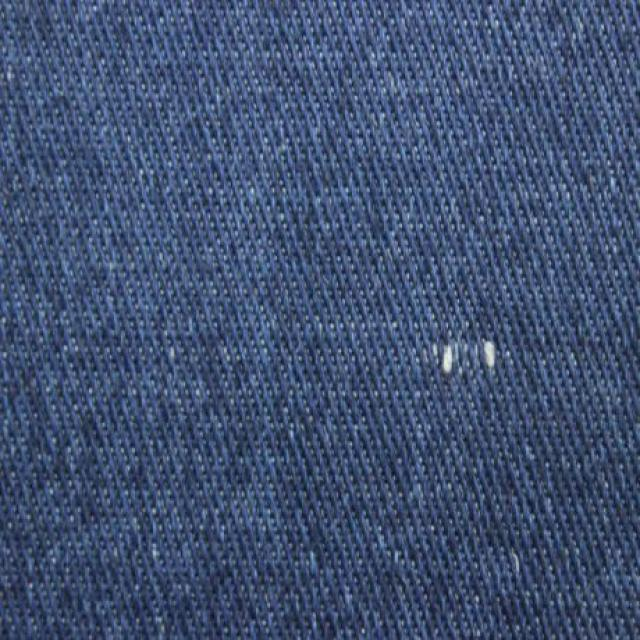stains: (358, 284, 551, 420)
